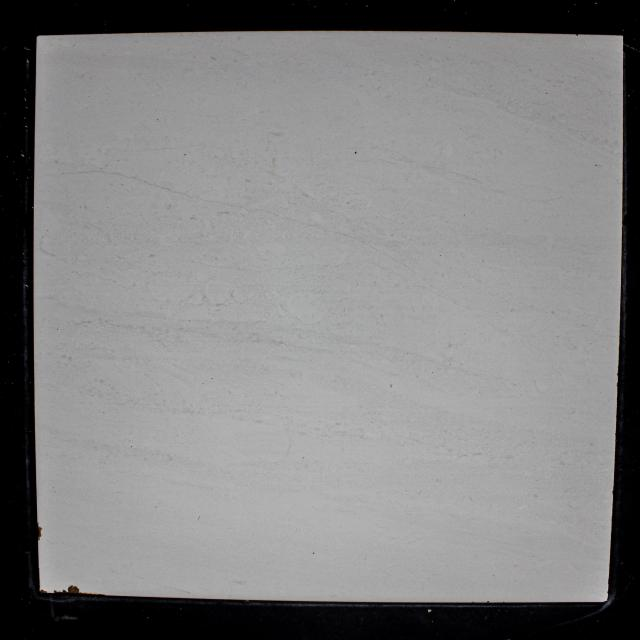edge-chipping: (68, 585, 80, 595), (80, 592, 105, 596), (36, 526, 42, 541), (53, 589, 67, 594), (38, 589, 48, 594)
hole: (354, 152, 357, 154)
line: (92, 170, 213, 202)
